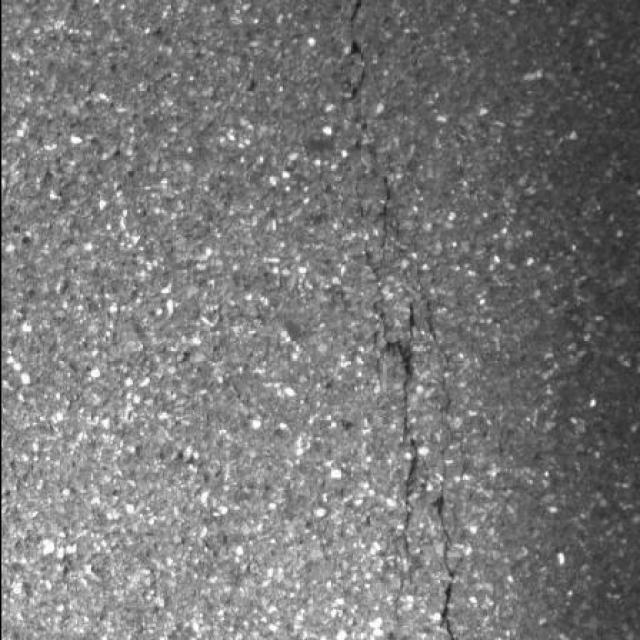Crack: (353, 176, 452, 640)
